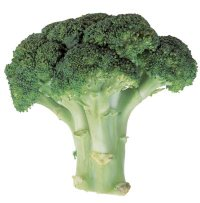broccoli: (3, 11, 199, 198)
